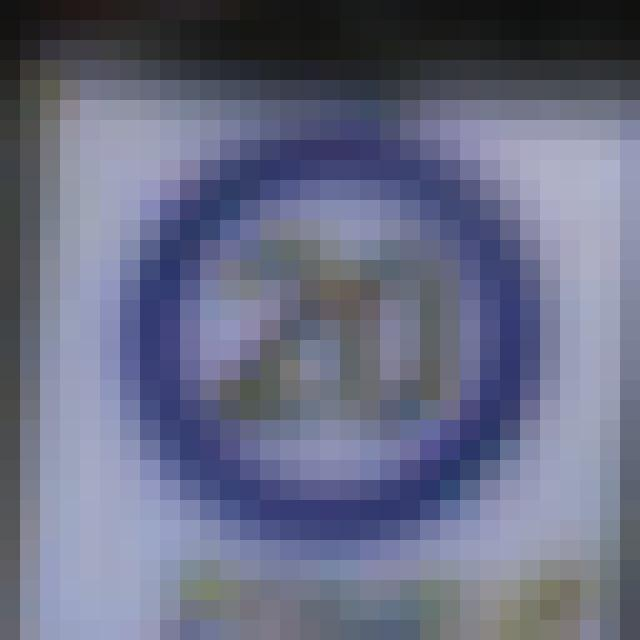SPEED LIMIT 20: (147, 155, 537, 530)
